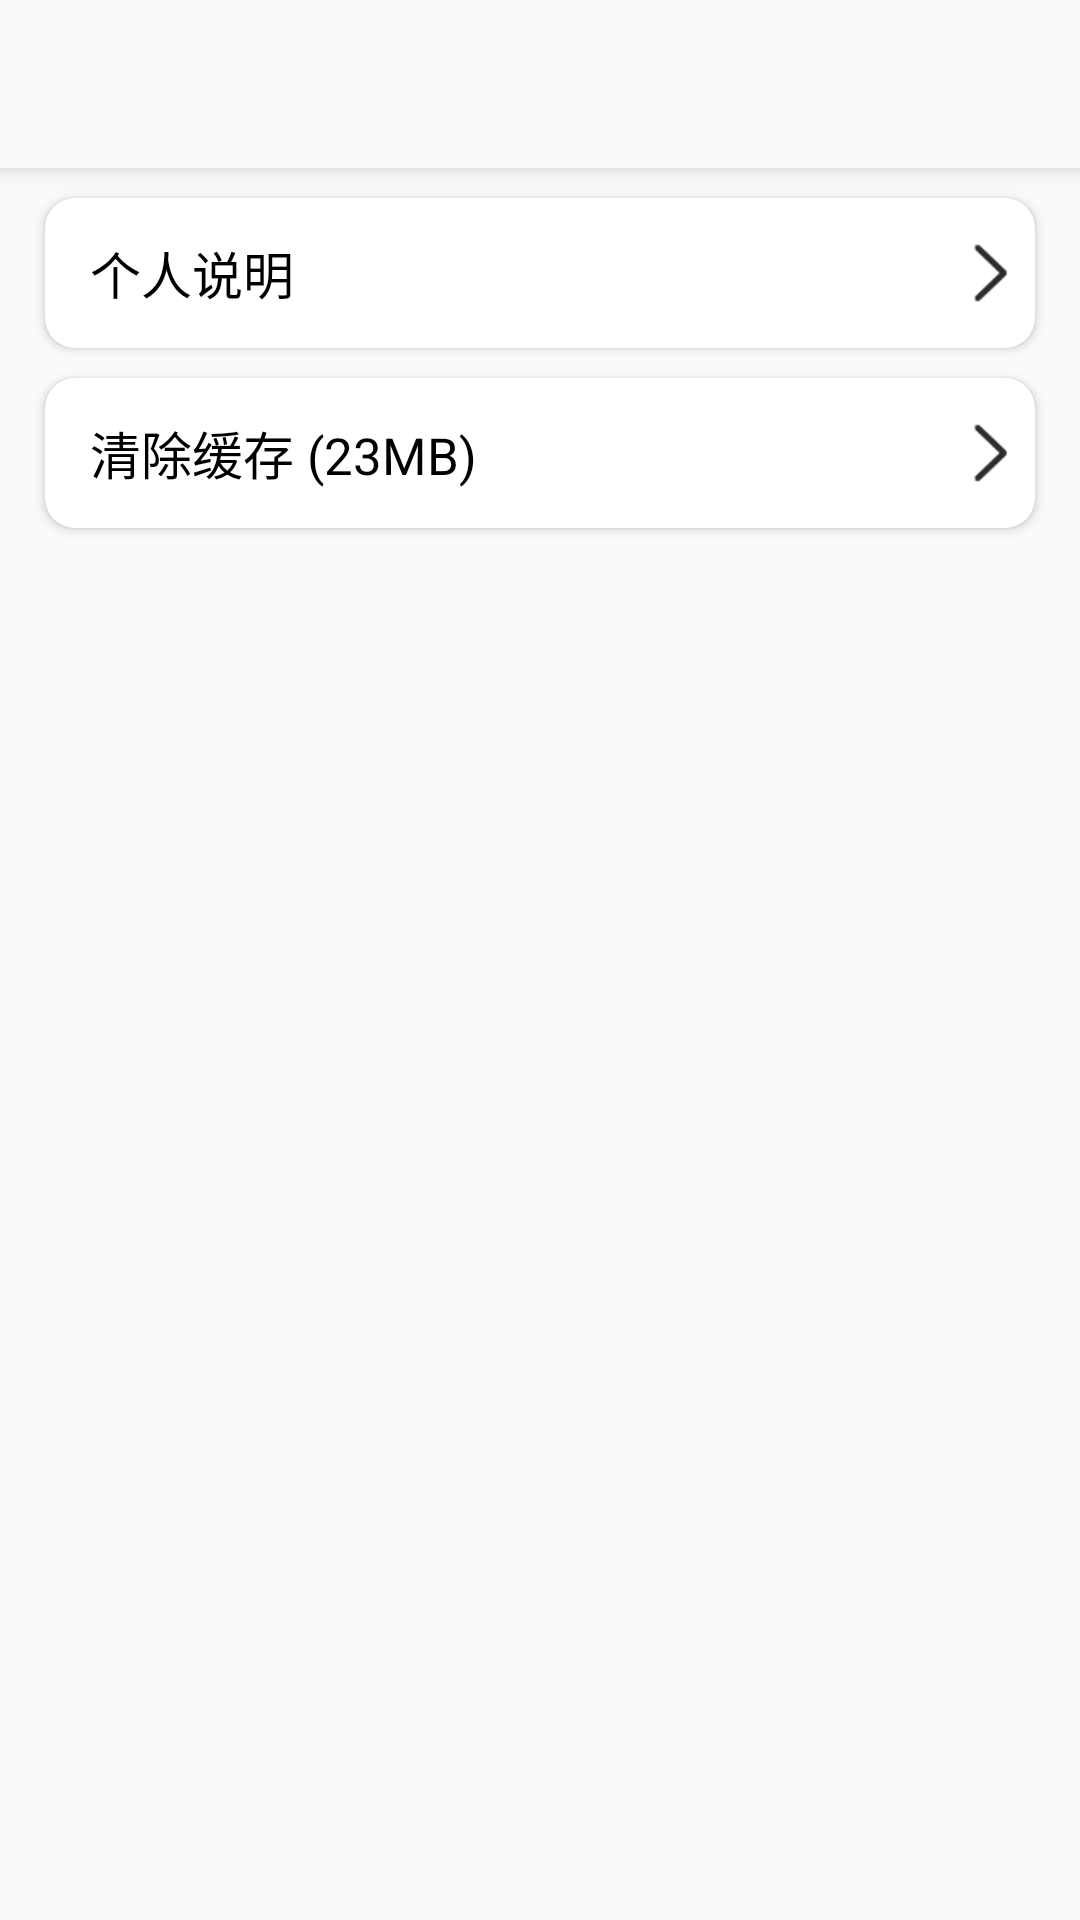

Icon click points for this 1080 × 1920 phone screenshot, format (x=x, y=y):
right in: (x=990, y=273), (x=990, y=453)
